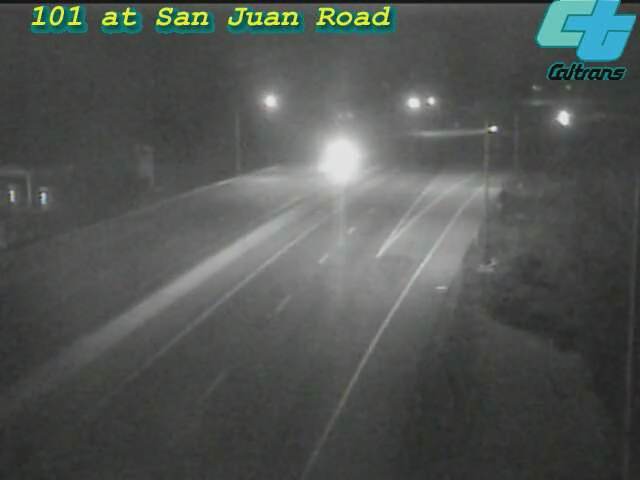vehicle: (314, 133, 364, 183), (468, 104, 518, 154), (535, 94, 585, 144)
